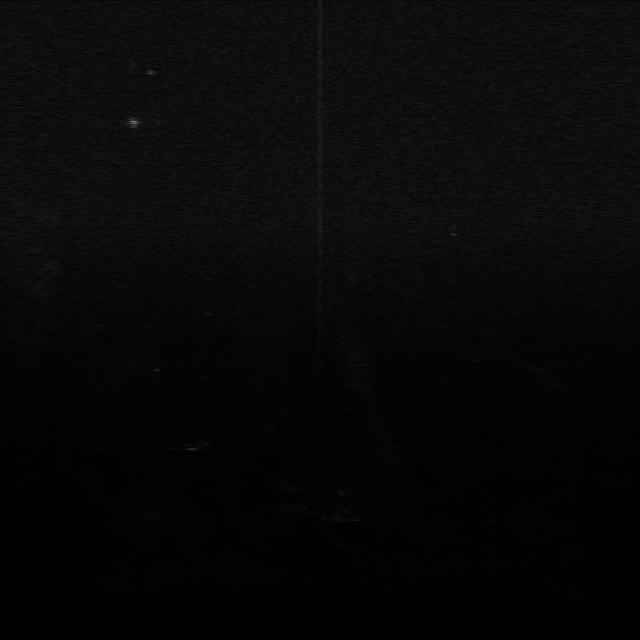rov: (118, 113, 144, 133)
